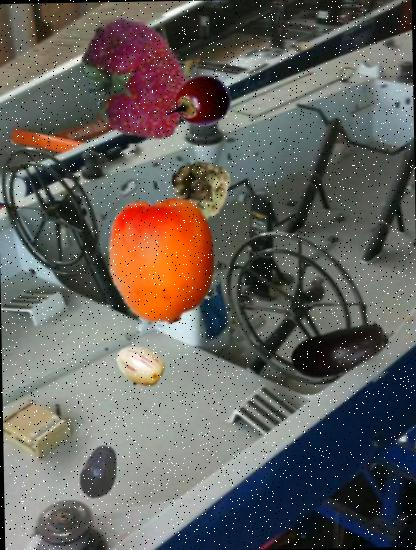Apricot: (98, 194, 228, 323)
Avocado: (72, 444, 129, 500)
Cauliflower: (166, 160, 230, 224)
Eggplant: (288, 298, 394, 404)
Pepino: (114, 340, 166, 392)
Strawberry: (69, 14, 202, 147)
Tamarillo: (170, 72, 232, 134)
